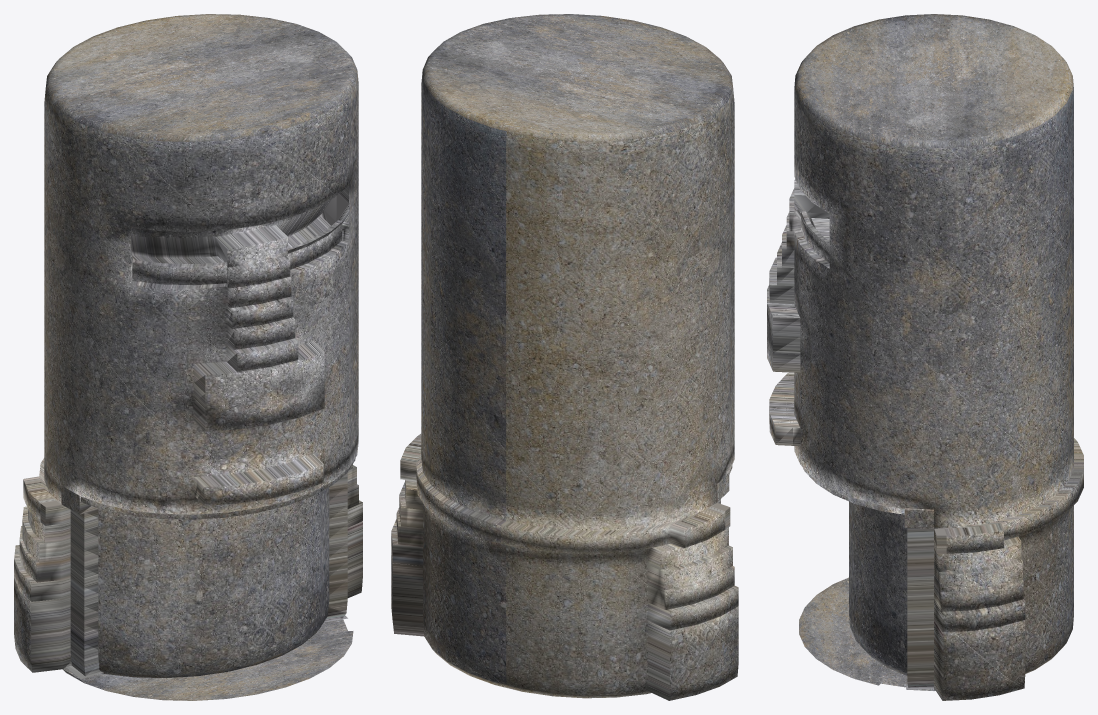
Rendered from moai.dae.
3 renders of one model, left to right at view 1: azimuth 30°, elevation 25°; view 2: azimuth 150°, elevation 25°; view 3: azimuth 270°, elevation 25°, orthographic. The views are drawn at different scales.
Parts seen in each view (by area): view 1: Cylinder001; view 2: Cylinder001; view 3: Cylinder001.
Part boxes in pixels (x1,y1,x2,y2): Cylinder001: [14, 14, 362, 700]; Cylinder001: [391, 14, 738, 700]; Cylinder001: [767, 14, 1083, 700].
Bounding box in the file's own units: 0.7783 × 0.6637 × 1.27.
